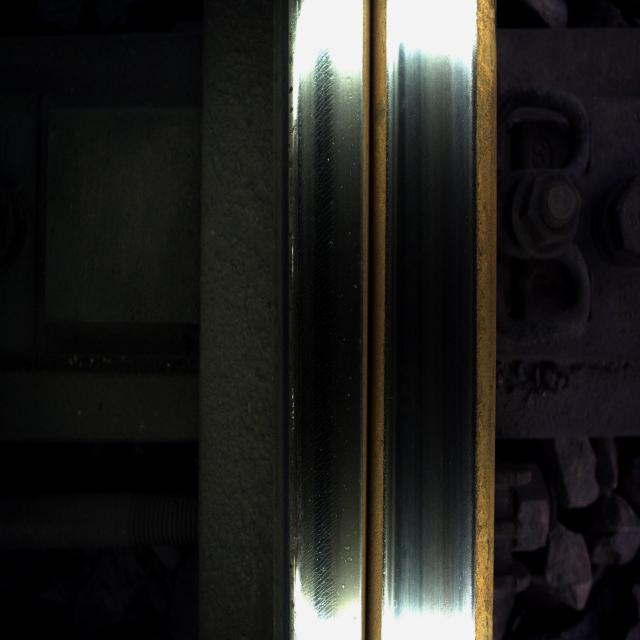break: (391, 18, 480, 604)
normal: (291, 39, 365, 611)
